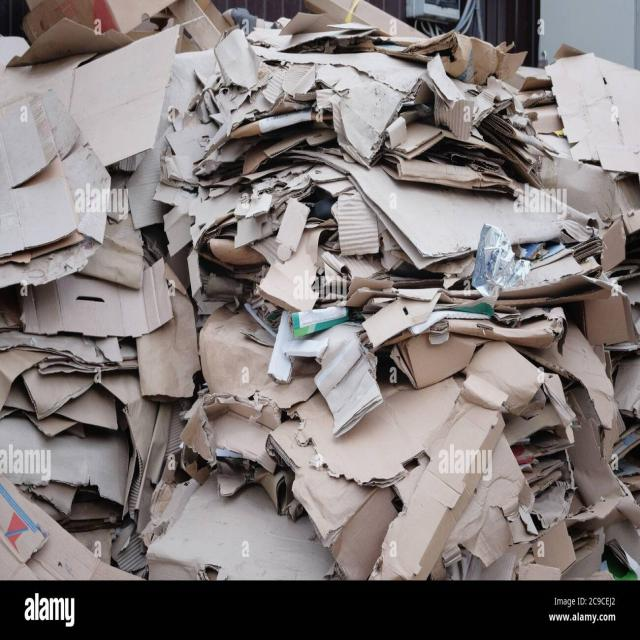Paper -Biodegradable-: (0, 0, 640, 579)
